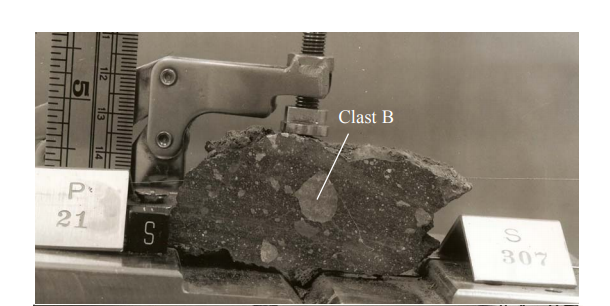Breccia: (187, 130, 468, 282)
